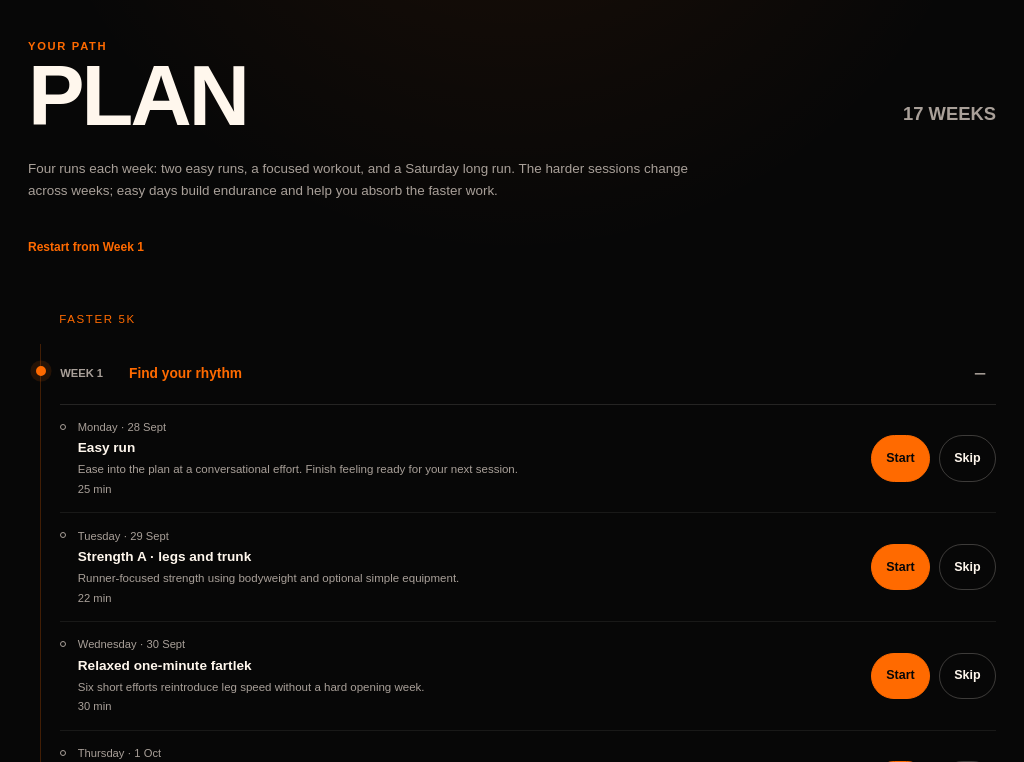
Test case: PlanPage › explains that a Sunday restart has its first Week 1 run on Monday
The width and height of the screenshot is (1024, 762).
Click the button "Restart from Week 1": click(86, 247) [28,225,144,269]
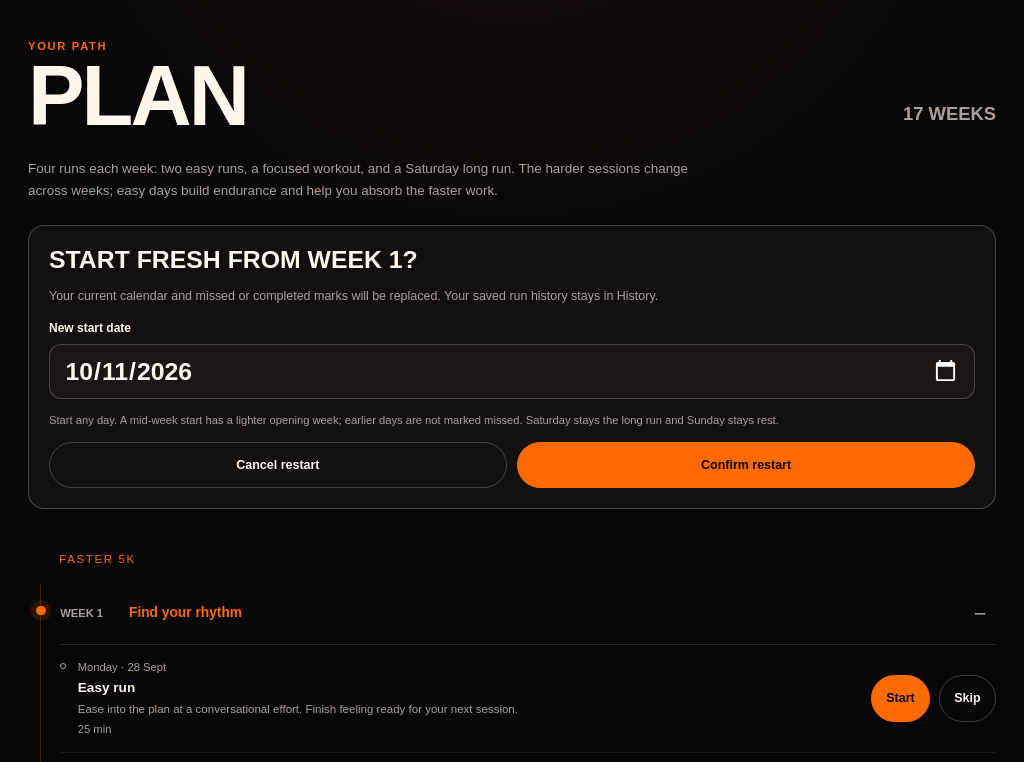
Now the date field labelled "New start date" holds "2026-10-11", box [49,344,975,399]
Click the button "Confirm restart": click(746, 465) [517,442,975,488]
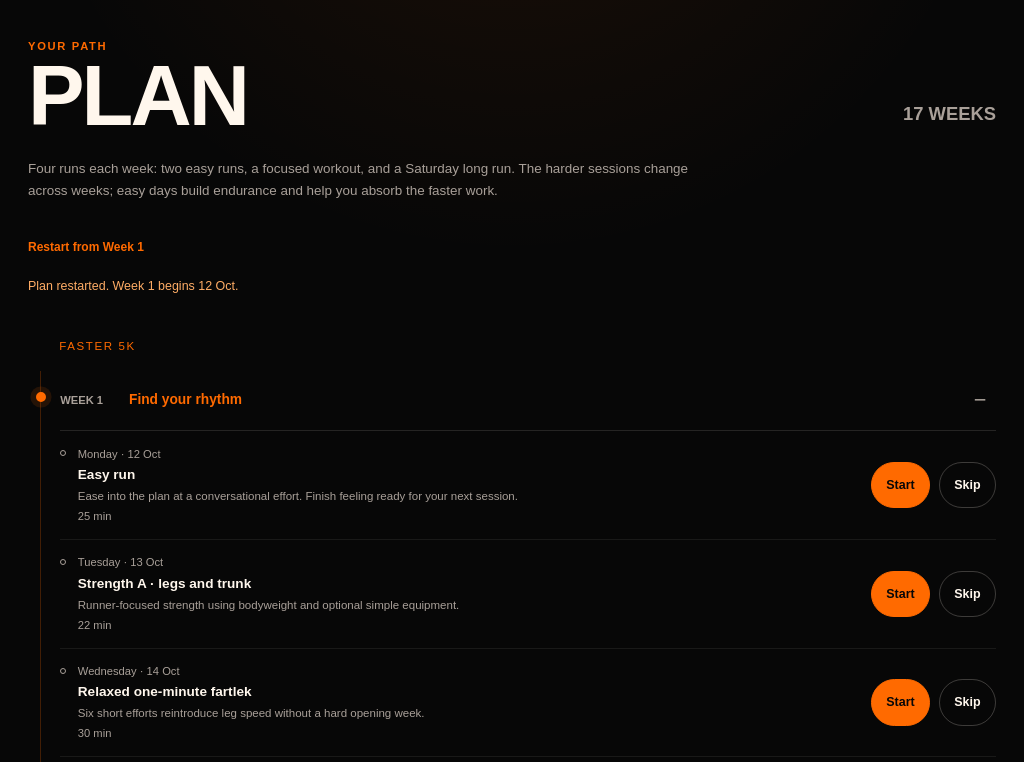
Now the message shows "Week 1 begins 12 Oct", box [28,279,238,293]
